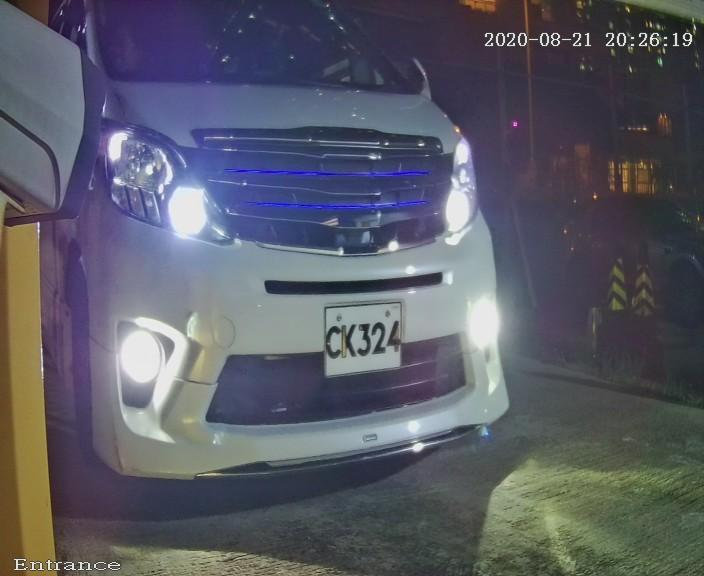Car: (32, 6, 538, 520)
License Plate: (302, 286, 421, 387)
